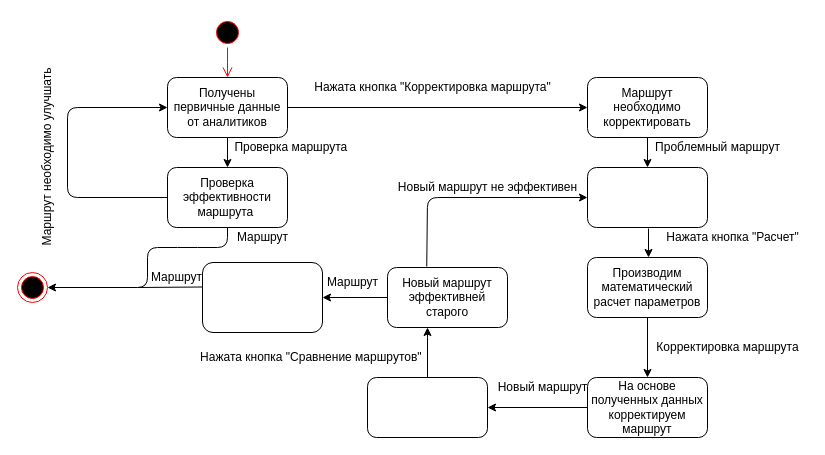
This 825x455 diagram has some shape labels left out. Each missing label, with the centre of its shape:
"Передача информации о изменении маршрута диспетчеру" goes at pixel 262 297.
"Сравнение старого и нового маршрута" goes at pixel 427 407.
"Устанавливаем что необходимо улучшить в маршруте" goes at pixel 647 197.
